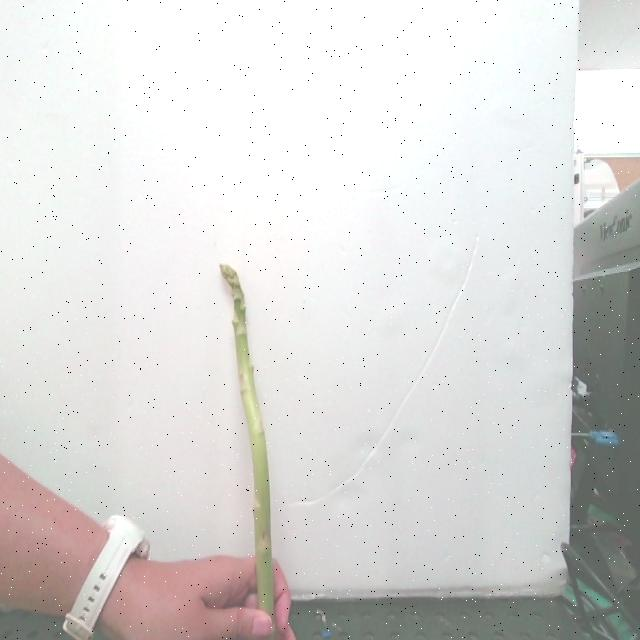aspargus: (222, 266, 276, 618)
